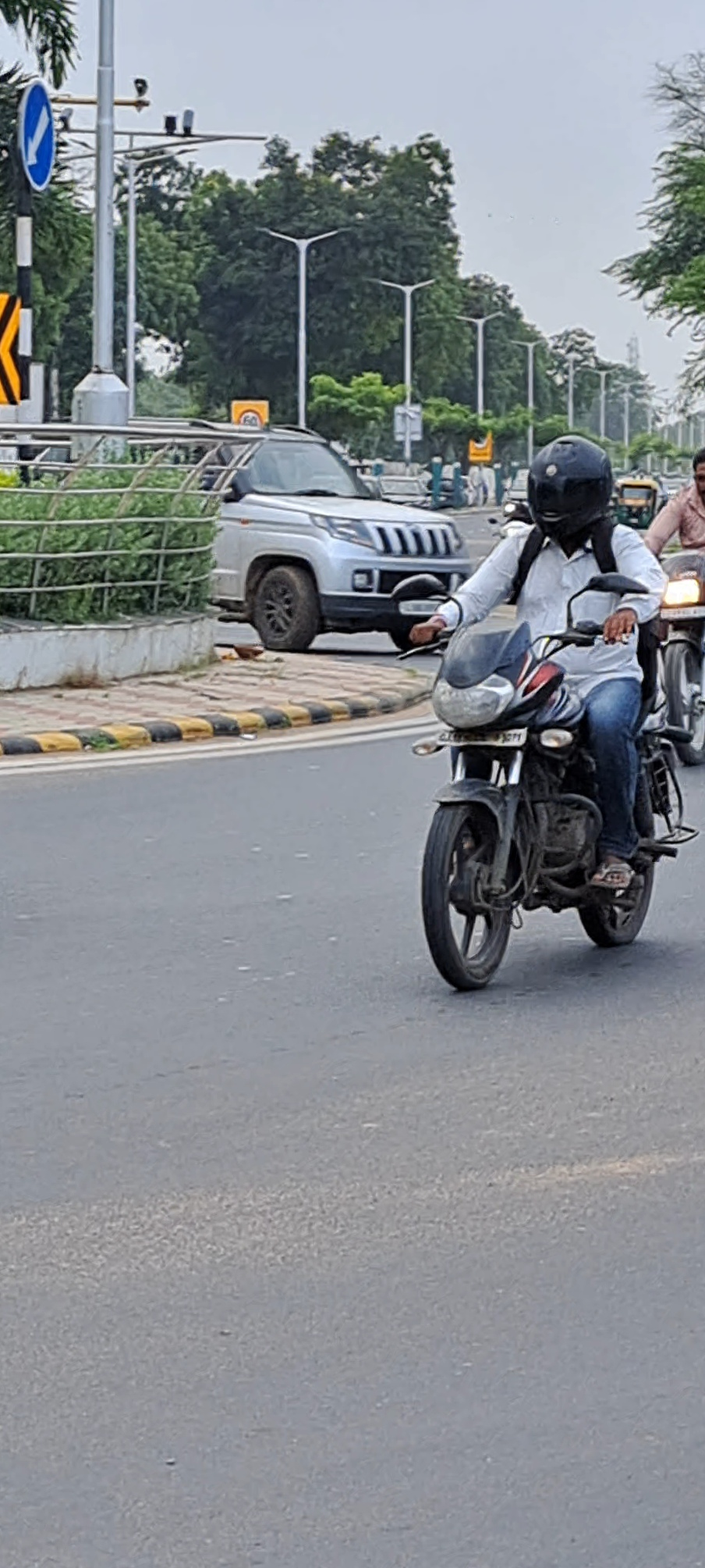BikeWithRider: (385, 422, 700, 1007)
Helmet: (521, 429, 622, 542)
